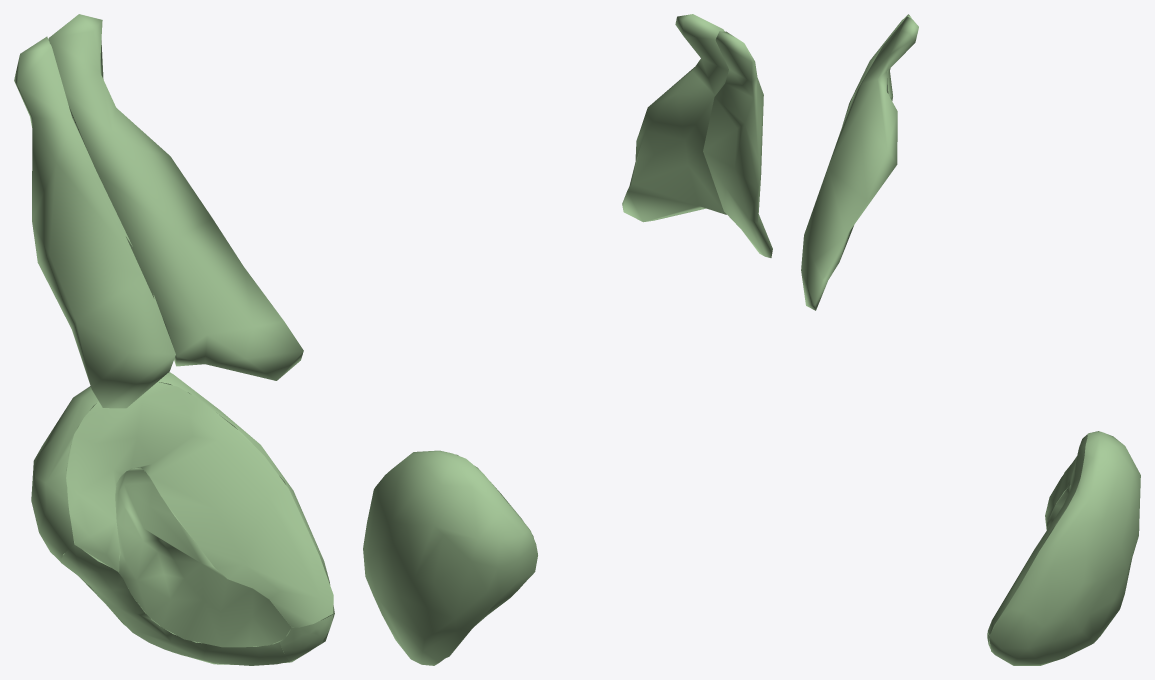
Rendered from adult_female.lymphatic.LOD3.glb.
3 renders of one model, left to right at view 1: azimuth 30°, elevation 25°; view 2: azimuth 150°, elevation 25°; view 3: azimuth 270°, elevation 25°, orthographic. The views are drawn at different scales.
Visible parts, largest first — view 1: ADULT.FEMALE.LYMPHATIC.GASTRIC_SURFACE_OF_SPLEEN, ADULT.FEMALE.LYMPHATIC.THYMUS_LOBE.L, ADULT.FEMALE.LYMPHATIC.THYMUS_LOBE.R, ADULT.FEMALE.LYMPHATIC.HILUM_OF_SPLEEN, ADULT.FEMALE.LYMPHATIC.DIAPHRAGMATIC_SURFACE_OF_SPLEEN, ADULT.FEMALE.LYMPHATIC.RENAL_SURFACE_OF_SPLEEN, ADULT.FEMALE.LYMPHATIC.COLIC_SURFACE_OF_SPLEEN; view 2: ADULT.FEMALE.LYMPHATIC.DIAPHRAGMATIC_SURFACE_OF_SPLEEN, ADULT.FEMALE.LYMPHATIC.THYMUS_LOBE.L, ADULT.FEMALE.LYMPHATIC.THYMUS_LOBE.R; view 3: ADULT.FEMALE.LYMPHATIC.DIAPHRAGMATIC_SURFACE_OF_SPLEEN, ADULT.FEMALE.LYMPHATIC.THYMUS_LOBE.L, ADULT.FEMALE.LYMPHATIC.GASTRIC_SURFACE_OF_SPLEEN.
Part boxes in pixels (bbox=[...]): ADULT.FEMALE.LYMPHATIC.GASTRIC_SURFACE_OF_SPLEEN: bbox=[66, 382, 333, 627]; ADULT.FEMALE.LYMPHATIC.THYMUS_LOBE.L: bbox=[48, 14, 303, 380]; ADULT.FEMALE.LYMPHATIC.THYMUS_LOBE.R: bbox=[14, 36, 175, 408]; ADULT.FEMALE.LYMPHATIC.HILUM_OF_SPLEEN: bbox=[115, 468, 291, 647]; ADULT.FEMALE.LYMPHATIC.DIAPHRAGMATIC_SURFACE_OF_SPLEEN: bbox=[31, 372, 334, 664]; ADULT.FEMALE.LYMPHATIC.RENAL_SURFACE_OF_SPLEEN: bbox=[60, 544, 289, 665]; ADULT.FEMALE.LYMPHATIC.COLIC_SURFACE_OF_SPLEEN: bbox=[279, 614, 333, 661]; ADULT.FEMALE.LYMPHATIC.DIAPHRAGMATIC_SURFACE_OF_SPLEEN: bbox=[363, 450, 537, 665]; ADULT.FEMALE.LYMPHATIC.THYMUS_LOBE.L: bbox=[622, 14, 728, 222]; ADULT.FEMALE.LYMPHATIC.THYMUS_LOBE.R: bbox=[703, 31, 772, 257]; ADULT.FEMALE.LYMPHATIC.DIAPHRAGMATIC_SURFACE_OF_SPLEEN: bbox=[989, 431, 1140, 665]; ADULT.FEMALE.LYMPHATIC.THYMUS_LOBE.L: bbox=[801, 16, 918, 310]; ADULT.FEMALE.LYMPHATIC.GASTRIC_SURFACE_OF_SPLEEN: bbox=[987, 434, 1087, 634].
Bounding box in the file's own units: 0.147 × 0.2827 × 0.1571.
